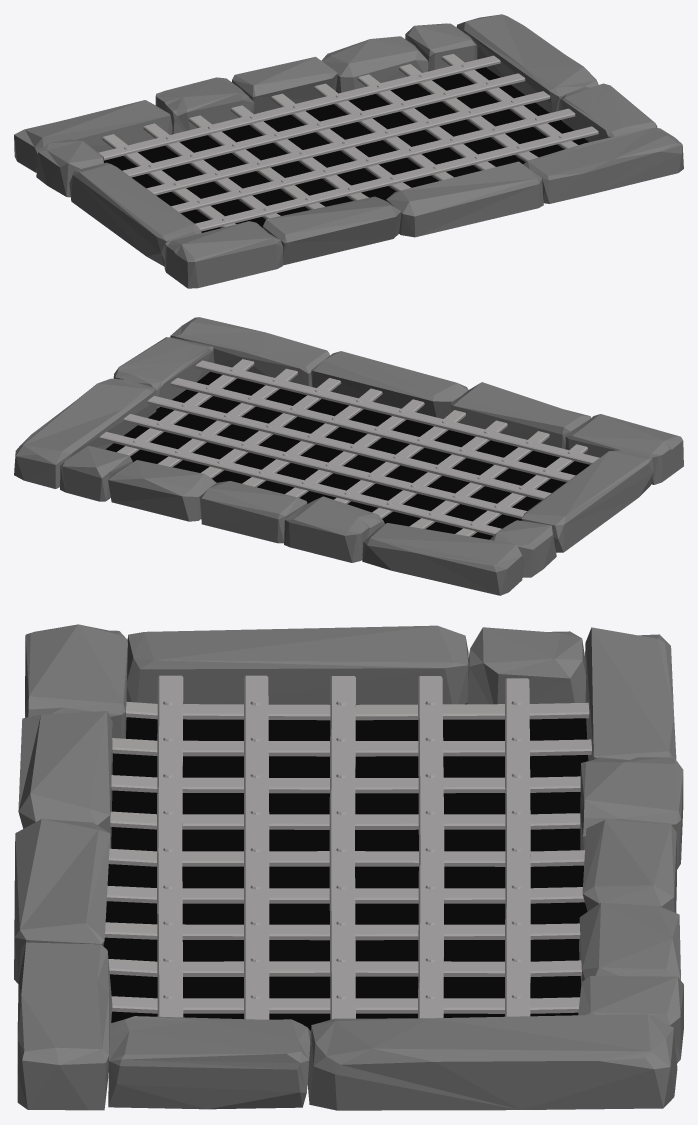
Rendered from MEDSpikeStoneGrate.fbx.
The picture shows the model from 3 angles, top to bottom: view 1: azimuth 30°, elevation 25°; view 2: azimuth 150°, elevation 25°; view 3: azimuth 270°, elevation 25°; orthographic projection. The views are drawn at different scales.
Visible parts, largest first — view 1: MEDSpikeStoneGrate; view 2: MEDSpikeStoneGrate; view 3: MEDSpikeStoneGrate.
Boxes of the visible parts, x1=… form: MEDSpikeStoneGrate: x1=14, y1=14, x2=683, y2=288; MEDSpikeStoneGrate: x1=14, y1=317, x2=683, y2=595; MEDSpikeStoneGrate: x1=14, y1=624, x2=683, y2=1110.
Bounding box in the file's own units: 174 × 11.57 × 114.
